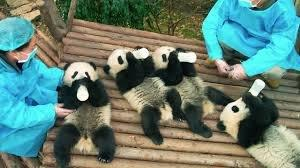bear: (54, 61, 115, 166)
